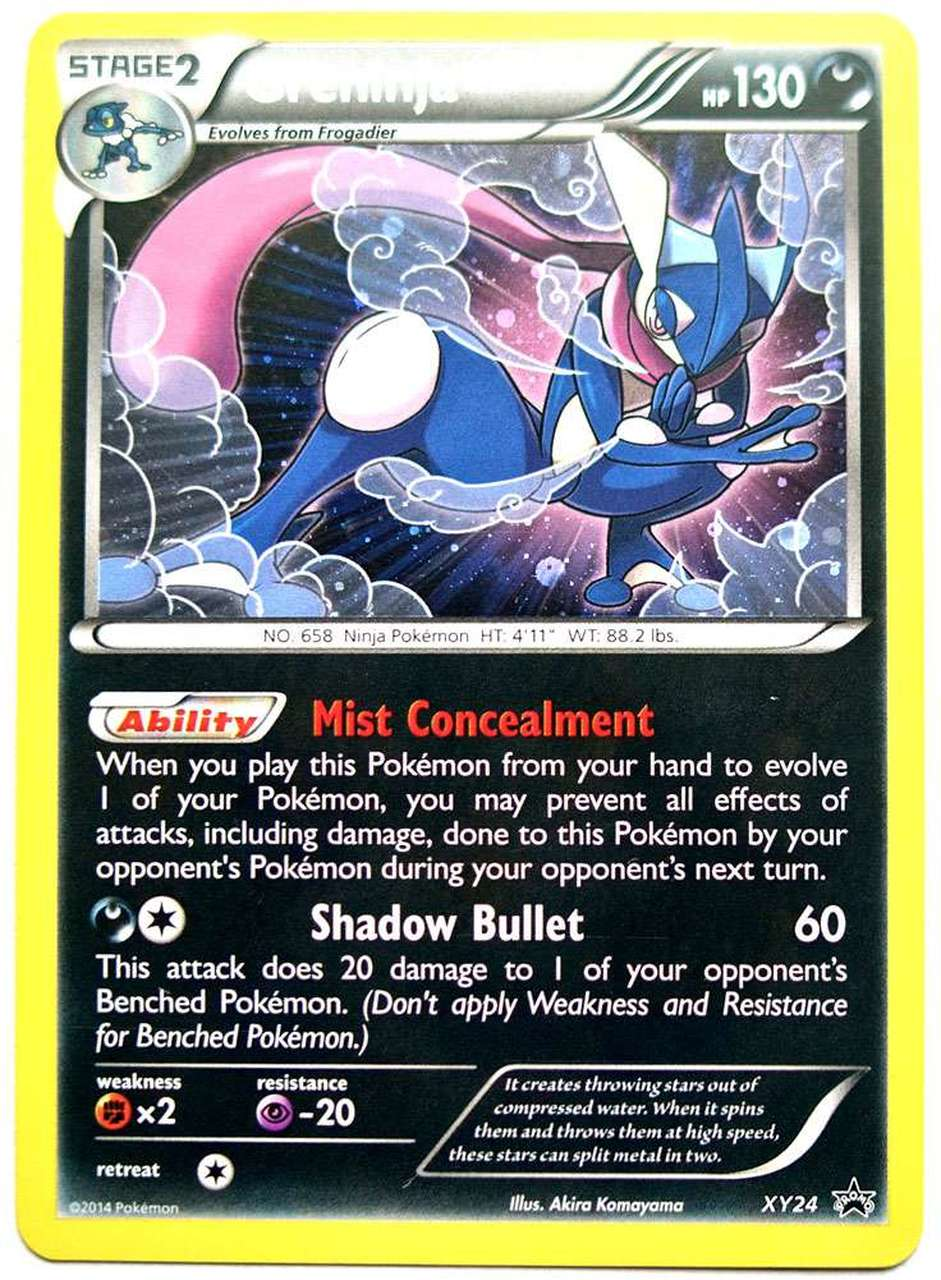greninja: (90, 138, 842, 621)
